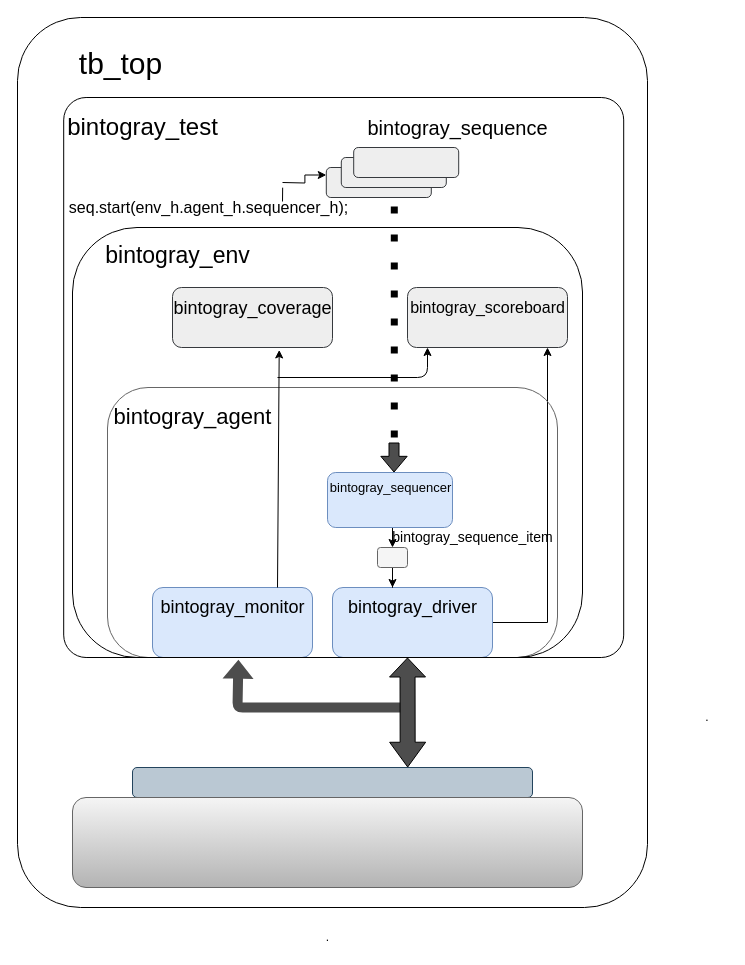
Some shapes in this 745 by 965 pixel diagram are drawn without their labels. The box of each missing label's shape, as (x1, y1, x2, y2) in pixels:
DUT: (72, 796, 582, 888)
interface: (132, 766, 532, 798)
